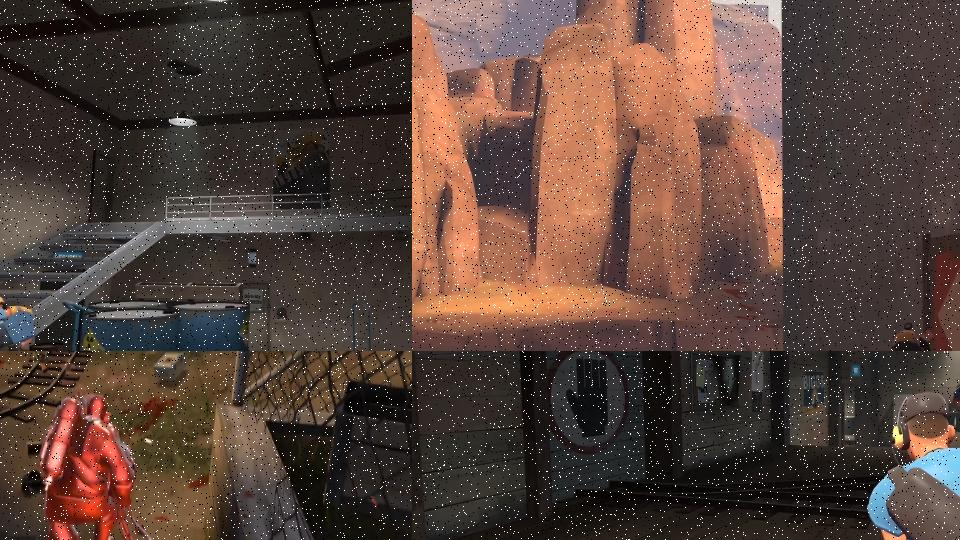Enemy: (828, 390, 960, 540), (35, 391, 152, 540), (0, 293, 42, 351)
